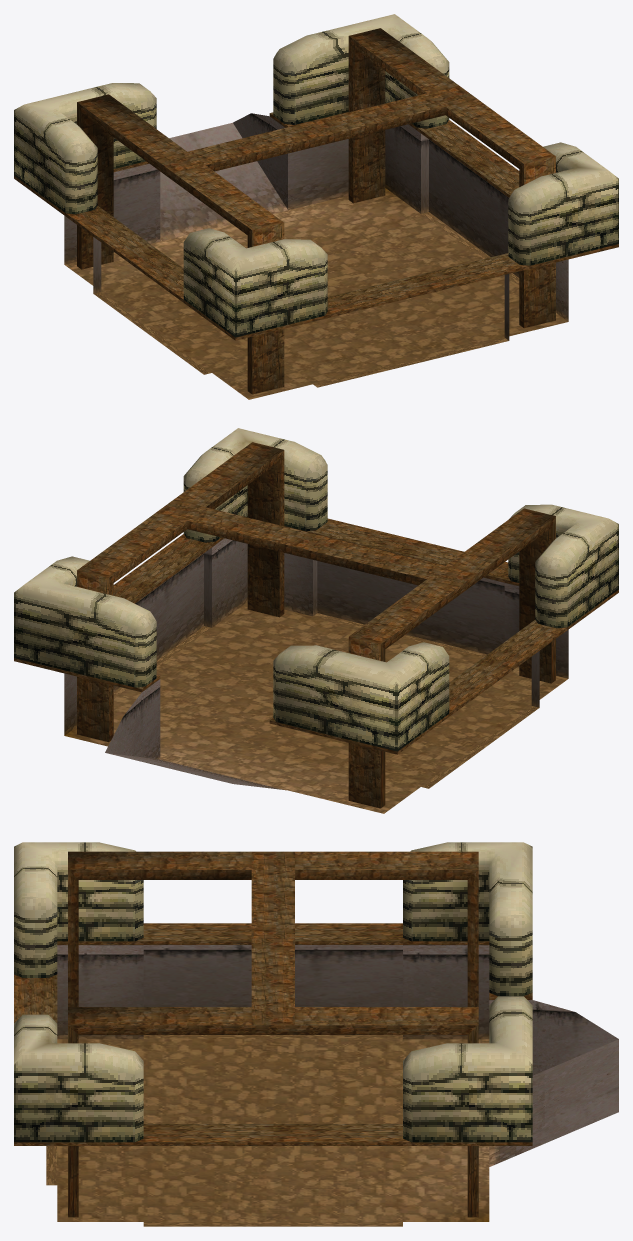
File: M3_SandbagBunker.glb
3 views of the same model, one above another, from view 1: azimuth 30°, elevation 25°; view 2: azimuth 150°, elevation 25°; view 3: azimuth 270°, elevation 25° (orthographic). The views are drawn at different scales.
Visible parts, largest first — view 1: M3_SANDBAGBUNKER; view 2: M3_SANDBAGBUNKER; view 3: M3_SANDBAGBUNKER.
Boxes of the visible parts, x1,y1,x2,y2 form: M3_SANDBAGBUNKER: (14, 14, 618, 399); M3_SANDBAGBUNKER: (14, 428, 618, 813); M3_SANDBAGBUNKER: (14, 842, 618, 1226).
Size of the model in its own units: 6 by 2.45 by 7.
Materials: 6 (6 with a texture image).
